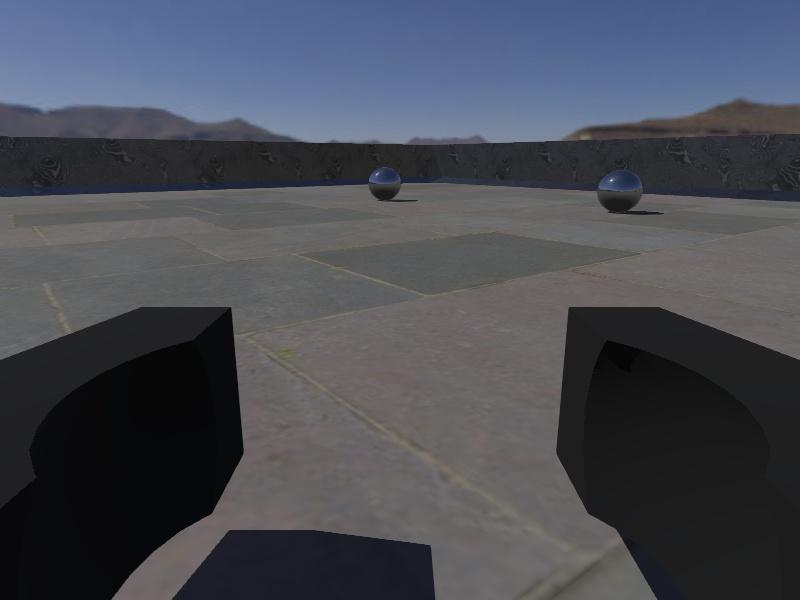steel ball: (597, 168, 643, 214), (368, 166, 402, 202)
